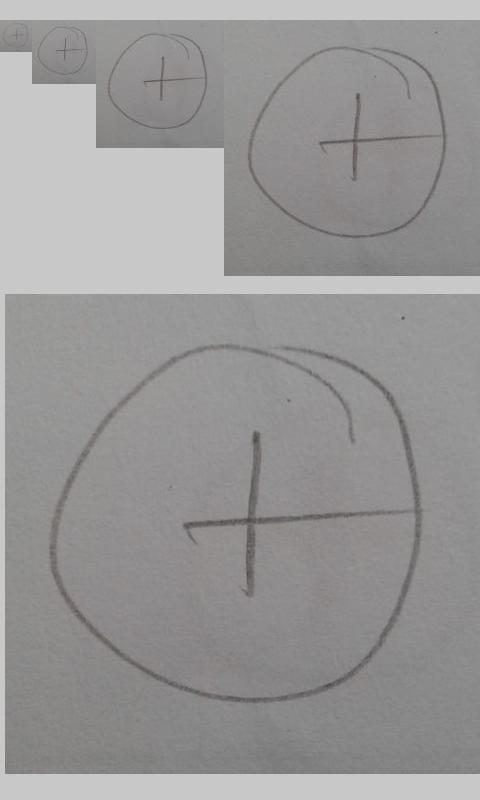button: (46, 340, 426, 705), (246, 45, 448, 239), (106, 32, 210, 131), (36, 25, 88, 76), (3, 22, 30, 48)
